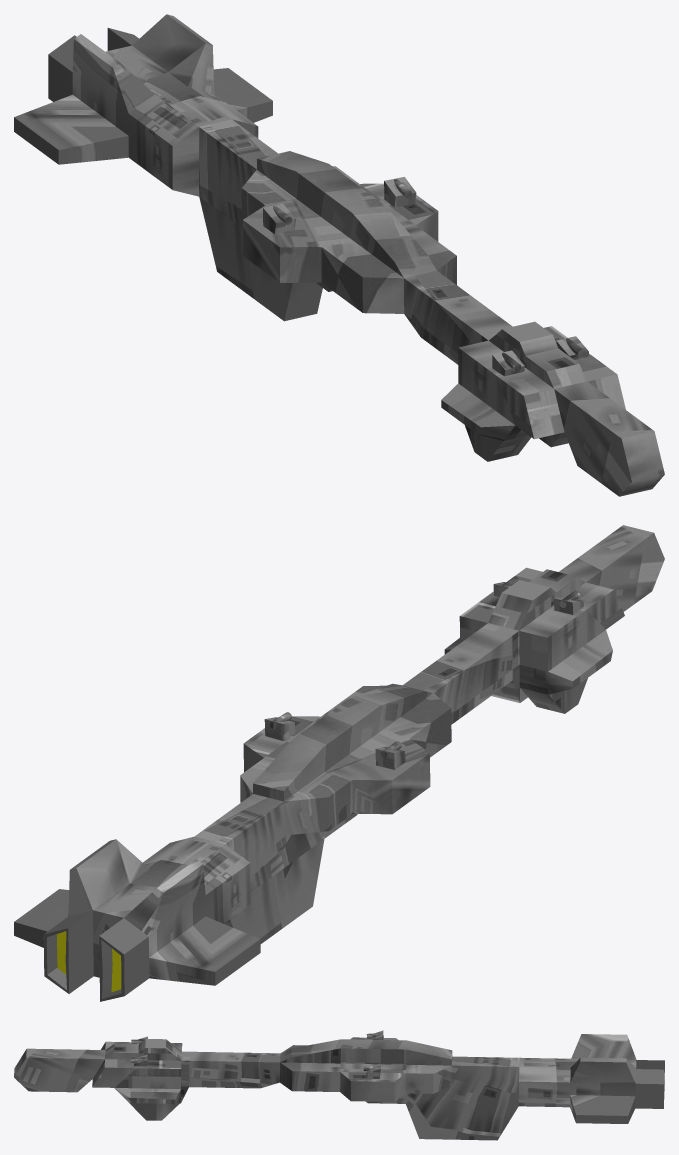
The picture shows the model from 3 angles, top to bottom: view 1: azimuth 30°, elevation 25°; view 2: azimuth 150°, elevation 25°; view 3: azimuth 270°, elevation 25°; orthographic projection. The views are drawn at different scales.
Parts seen in each view (by area): view 1: DestroyerR_Destroyer_Untitled.000; view 2: DestroyerR_Destroyer_Untitled.000; view 3: DestroyerR_Destroyer_Untitled.000.
Part boxes in pixels (x1,y1,x2,y2): DestroyerR_Destroyer_Untitled.000: [14, 14, 664, 496]; DestroyerR_Destroyer_Untitled.000: [14, 525, 664, 1001]; DestroyerR_Destroyer_Untitled.000: [14, 1030, 664, 1140].
Bounding box in the file's own units: 347 × 250 × 1617.
